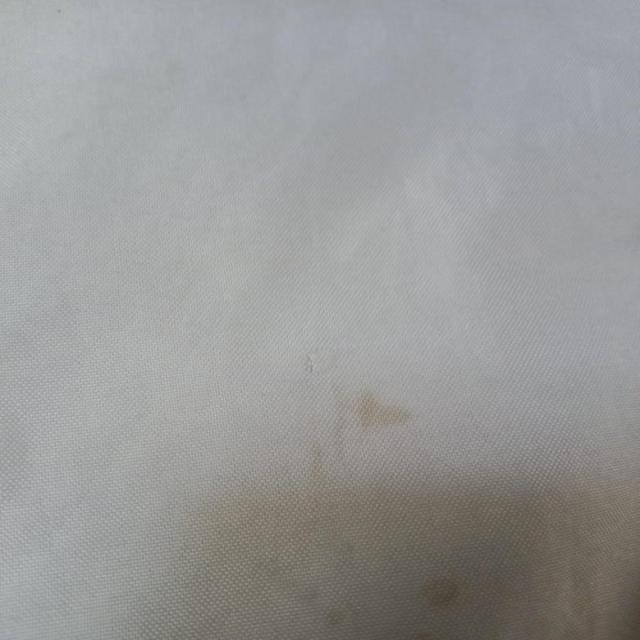stain: (341, 384, 425, 430), (417, 576, 474, 620)
